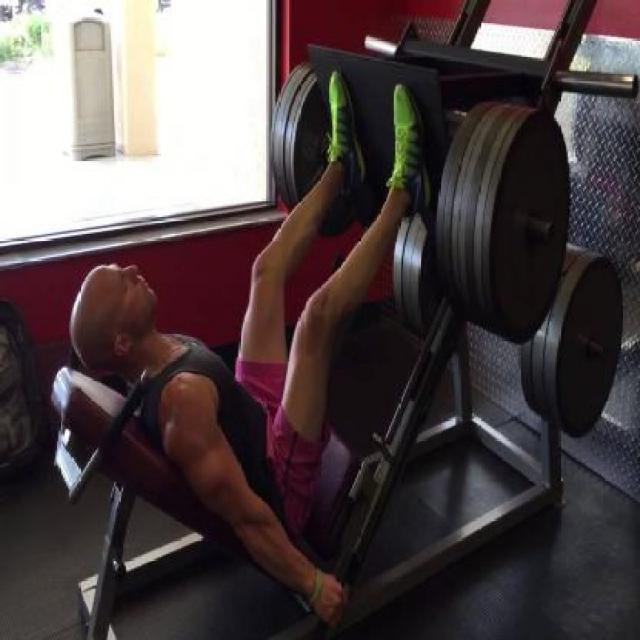leg press: (28, 0, 637, 640)
